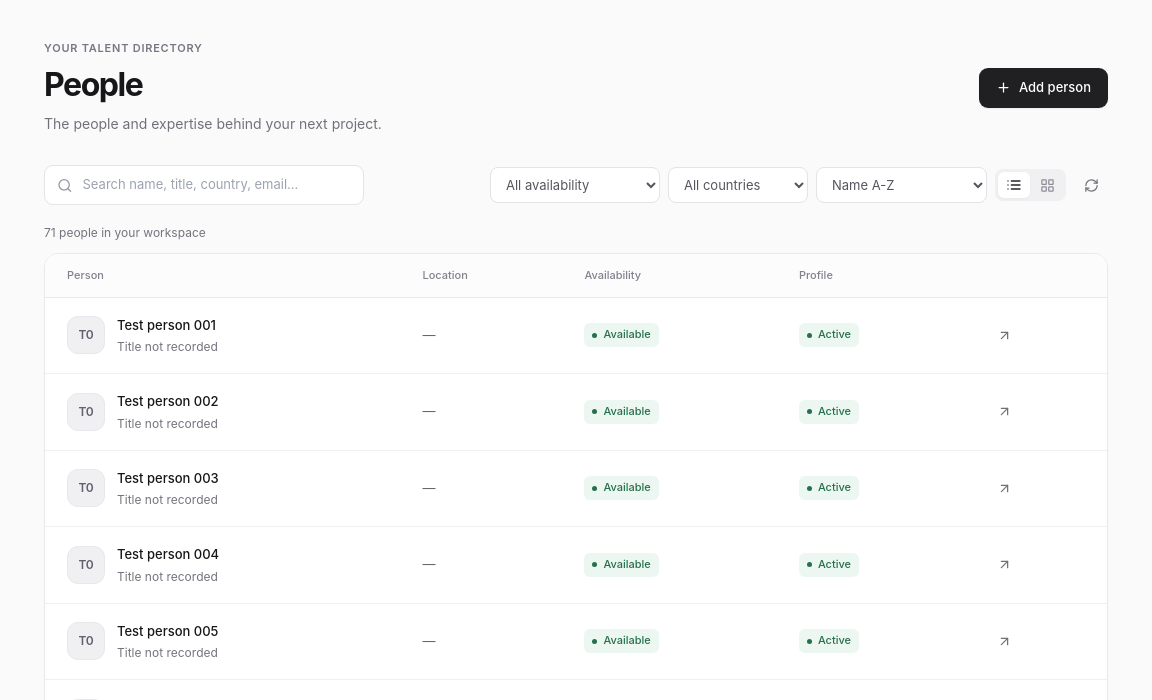
Test case: search finds a record beyond the visible first page
Expected: the link "Test person 001" is shown, [117, 316, 216, 332]
Type "Test person 071" into the field named "Search people" at (217, 185), box [82, 166, 351, 204]
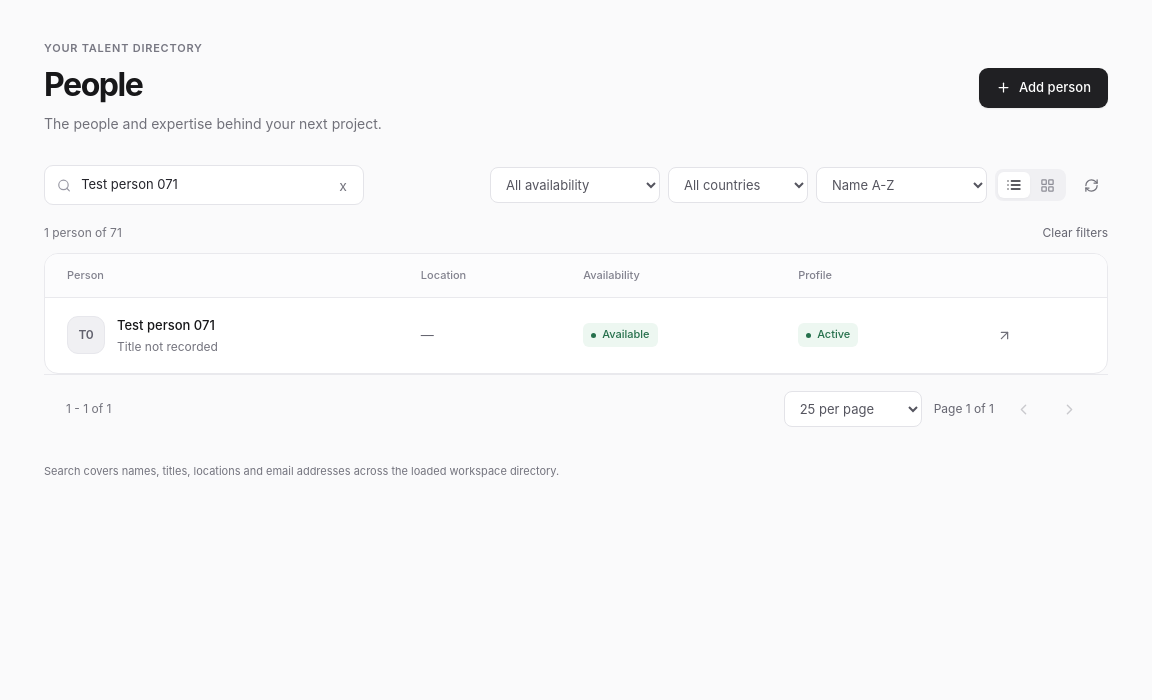
Expected: the link "Test person 071" is shown, [117, 316, 215, 332]
Expected: the link "Test person 001" is gone
